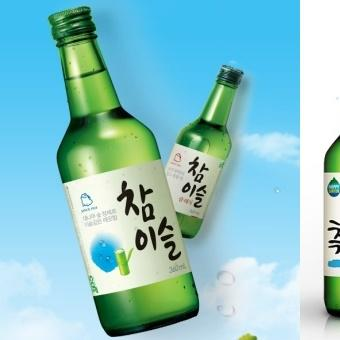soju: (40, 5, 246, 340)
